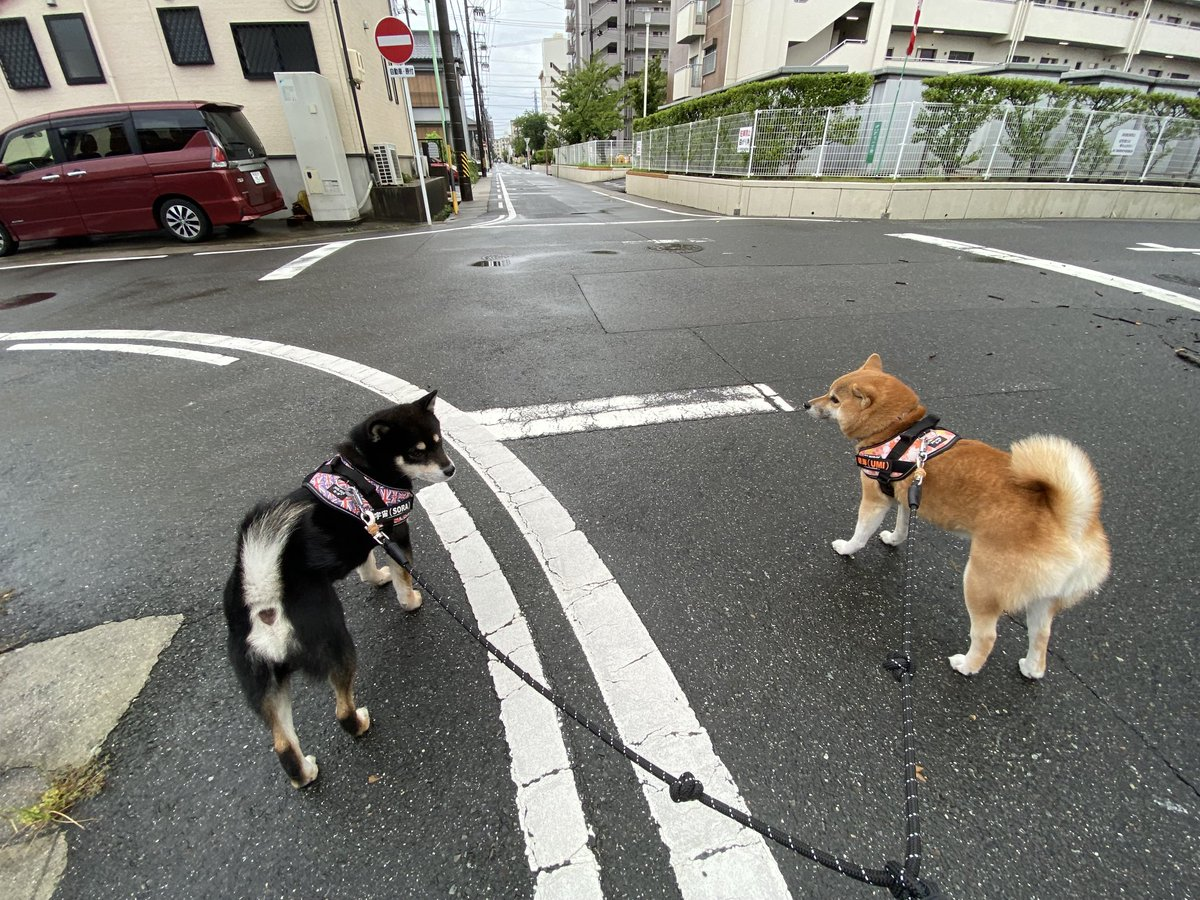girilmez: (369, 12, 414, 61)
kopek: (195, 376, 460, 795), (798, 349, 1116, 694)
otomobil: (0, 86, 327, 264)
